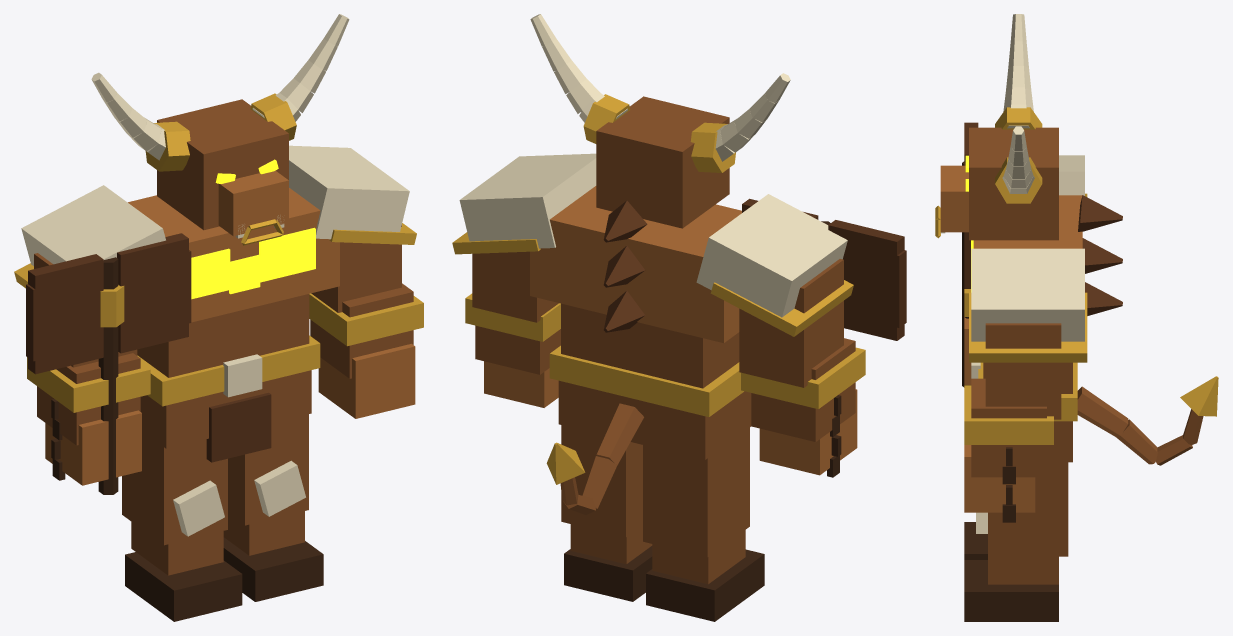
File: minotaur_boss.fbx
3 views of the same model, side by side, from view 1: azimuth 30°, elevation 25°; view 2: azimuth 150°, elevation 25°; view 3: azimuth 270°, elevation 25° (orthographic). The views are drawn at different scales.
Visible parts, largest first — view 1: Head, Chest, AxeBladeA, ShoulderR, Abdomen, AxeBladeB, ThighL, ShoulderL, HoofL, Pelvis, FistR, ChestGlyph (+24 smaller); view 2: Chest, Head, ThighL, ShoulderL, ShoulderR, Abdomen, Pelvis, UpperArmL, AxeBladeA, Belt, ThighR, HoofL (+22 smaller); view 3: ShoulderR, Head, UpperArmR, ThighR, HoofR, ForearmR, Tail, BracerR, FistR, ShoulderTrimR, ShinR, HornL (+17 smaller).
Part boxes in pixels (box(x1,y1,x2,y2)): Head: box(157, 99, 288, 230); Chest: box(128, 188, 339, 322); AxeBladeA: box(26, 254, 103, 374); ShoulderR: box(289, 145, 409, 239); Abdomen: box(137, 294, 309, 377); AxeBladeB: box(117, 233, 191, 353); ThighL: box(122, 431, 227, 545); ShoulderL: box(21, 185, 165, 265); HoofL: box(125, 552, 242, 621); Pelvis: box(140, 370, 311, 448); FistR: box(318, 343, 415, 418); ChestGlyph: box(191, 227, 315, 299); Chest: box(530, 186, 741, 343); Head: box(596, 96, 729, 228); ThighL: box(643, 418, 749, 557); ShoulderL: box(696, 194, 847, 317); ShoulderR: box(459, 153, 596, 248); Abdomen: box(561, 303, 739, 388); Pelvis: box(558, 380, 751, 459); UpperArmL: box(739, 259, 843, 387); AxeBladeA: box(828, 220, 906, 340); Belt: box(549, 345, 743, 416); ThighR: box(561, 425, 642, 537); HoofL: box(646, 549, 764, 621); ShoulderR: box(971, 248, 1084, 341); Head: box(969, 127, 1058, 240); UpperArmR: box(985, 323, 1061, 419); ThighR: box(988, 453, 1068, 556); HoofR: box(964, 560, 1058, 621); ForearmR: box(971, 378, 1046, 477); Tail: box(1077, 386, 1203, 465); BracerR: box(964, 385, 1053, 444); FistR: box(964, 445, 1035, 512); ShoulderTrimR: box(969, 292, 1087, 362); ShinR: box(988, 556, 1058, 584); HornL: box(1003, 14, 1033, 128).
Size of the model in its own units: 9.15 by 12.06 by 5.99.
